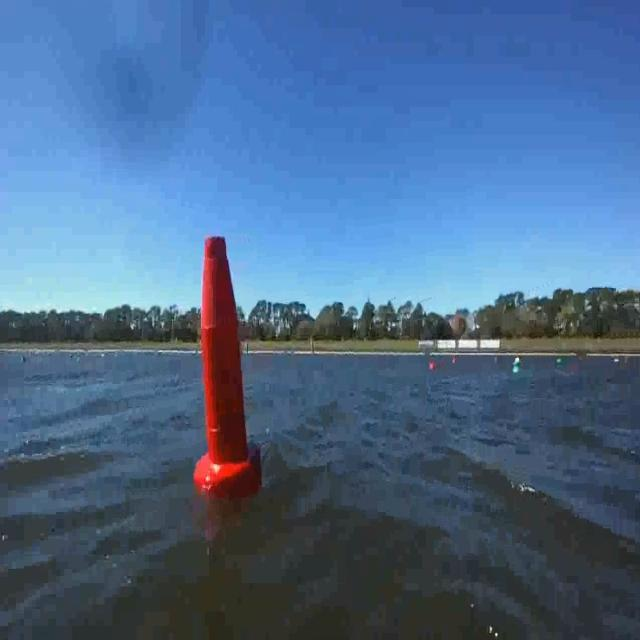green-buoy: (516, 358, 522, 367)
red-buoy: (430, 360, 436, 370)
red-column-buoy: (195, 228, 261, 496)
